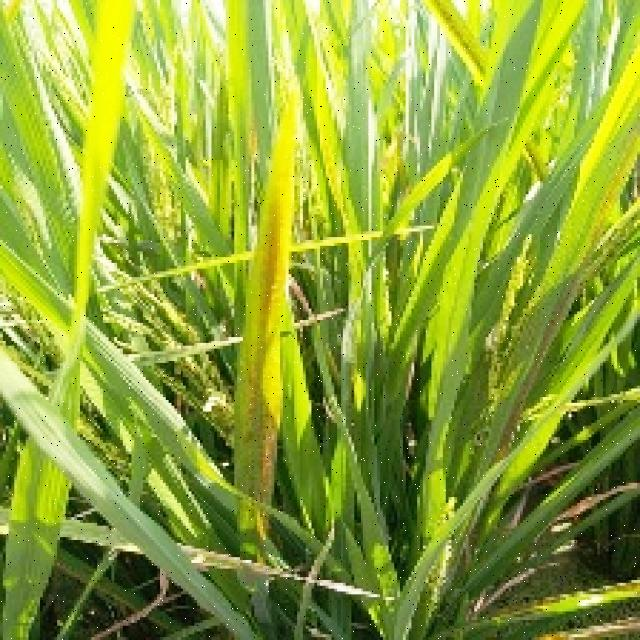-: (1, 0, 248, 640)
